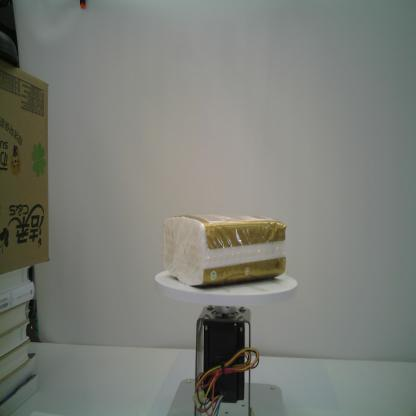Tissue: (161, 213, 288, 288)
